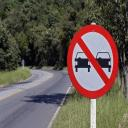NoUltrapassar: (64, 23, 122, 99)
